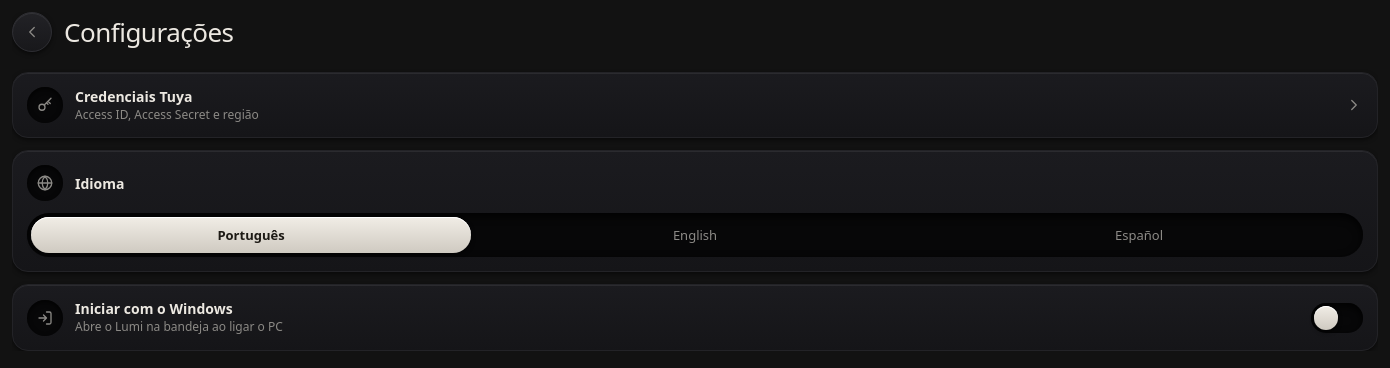
Test case: SettingsMenu › switches the whole interface language
Click the radio button labelled "English".
click(695, 235)  # box [475, 217, 915, 253]
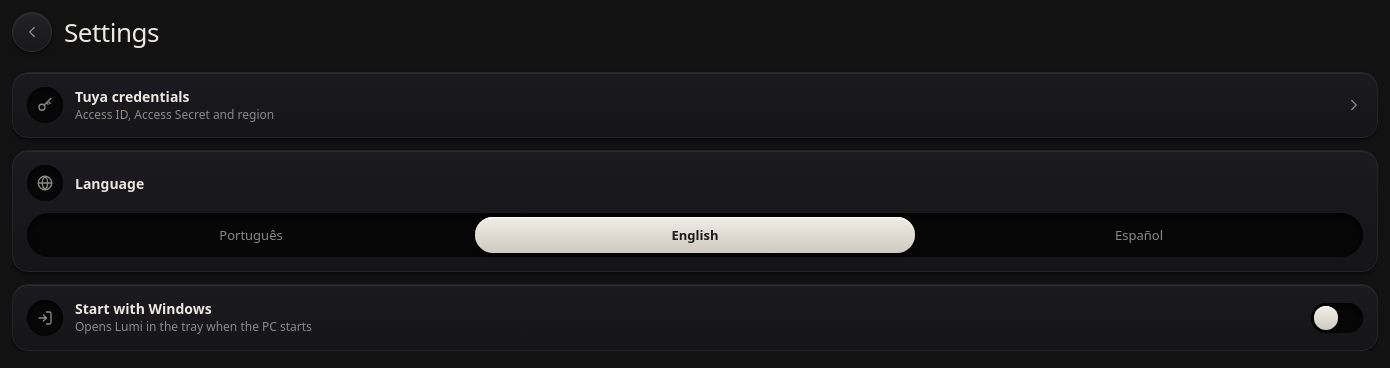
Check: the text "Start with Windows" is shown, box [75, 299, 212, 318]
Click the radio button labelled "Español".
click(1139, 235)  # box [919, 217, 1359, 253]
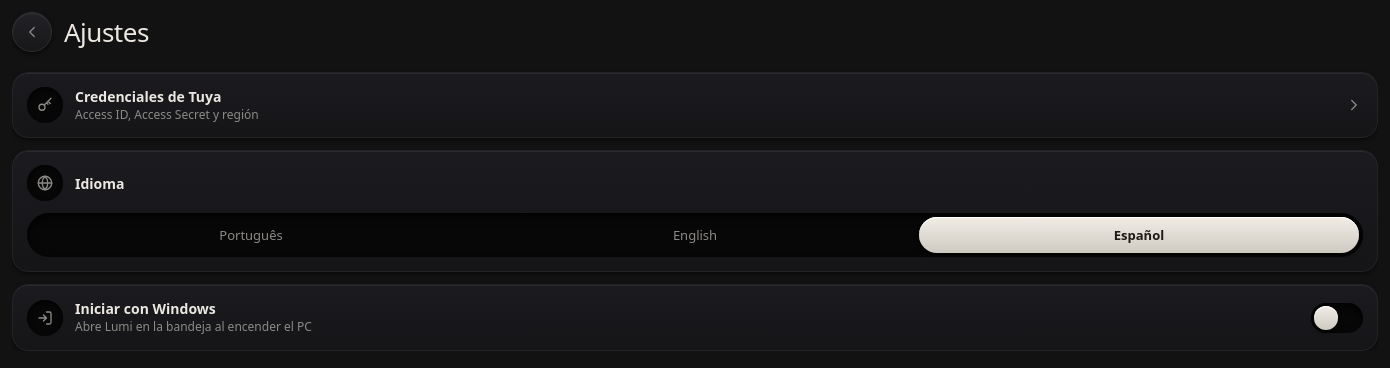
Check: the text "Iniciar con Windows" is shown, box [75, 299, 216, 318]
